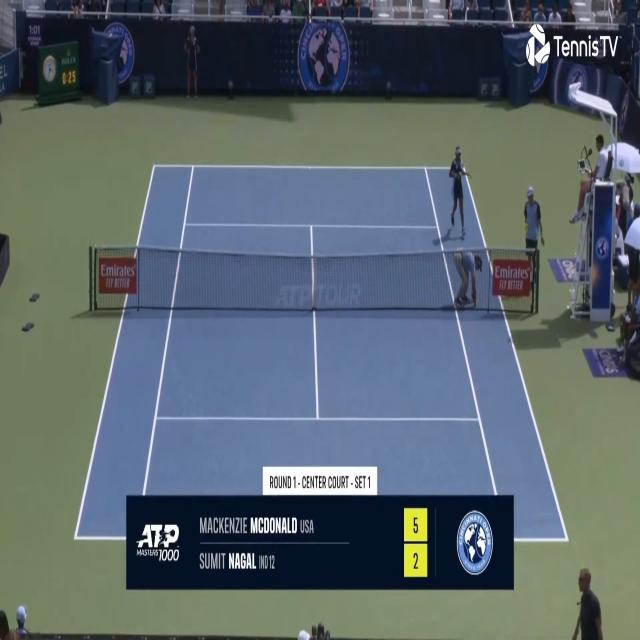tennis-player: (565, 563, 608, 639)
